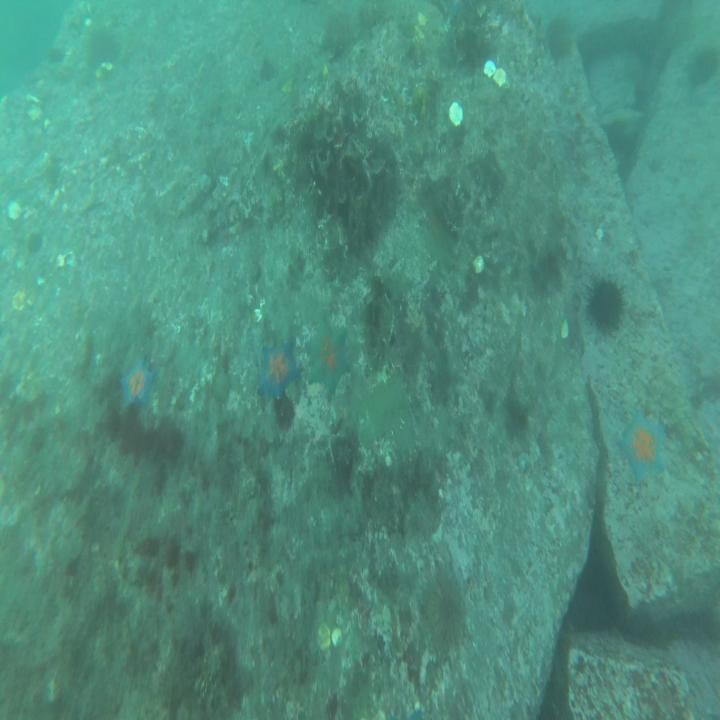echinus: (420, 576, 470, 656), (587, 269, 625, 339), (544, 7, 575, 61), (686, 49, 717, 84)
starfish: (620, 406, 671, 488), (304, 315, 348, 400), (256, 340, 299, 396), (120, 362, 154, 409)
